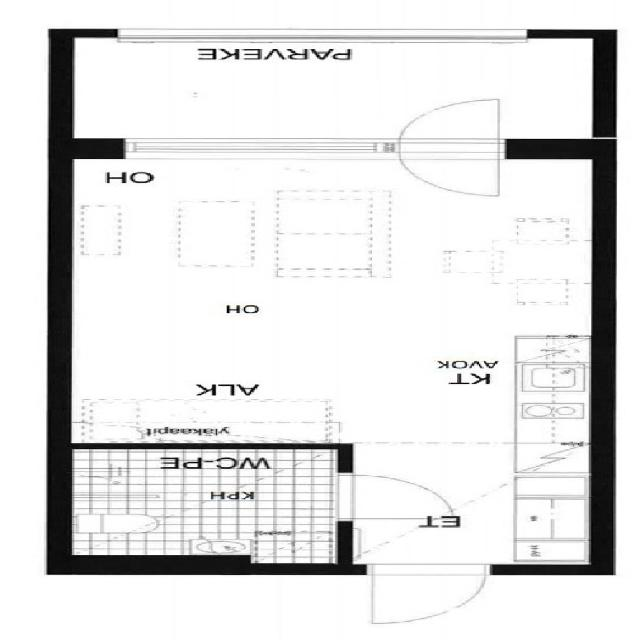door: (306, 455, 536, 555), (389, 94, 517, 200), (353, 562, 500, 628), (320, 468, 461, 527)
window: (108, 136, 388, 162)
zone: (61, 160, 612, 456), (55, 444, 352, 564), (329, 448, 599, 568)
